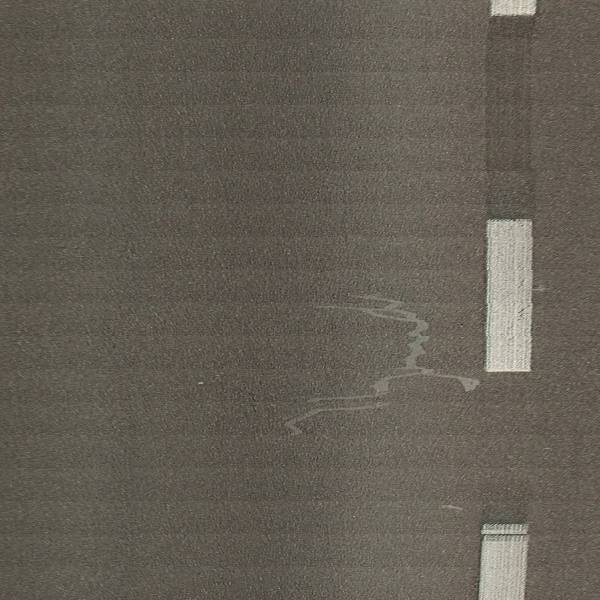road_damage: (278, 289, 484, 442)
